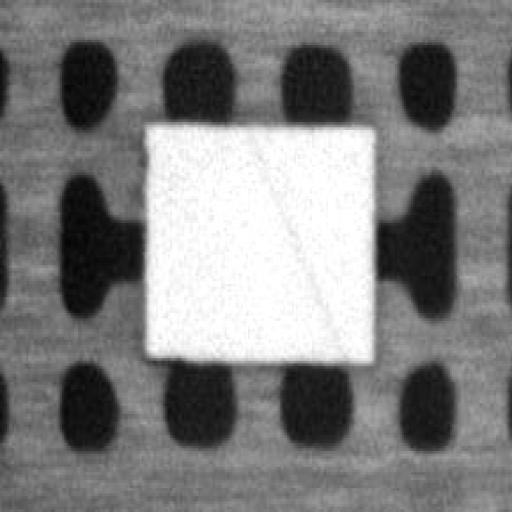DIE_CRACK: (252, 148, 336, 345)
